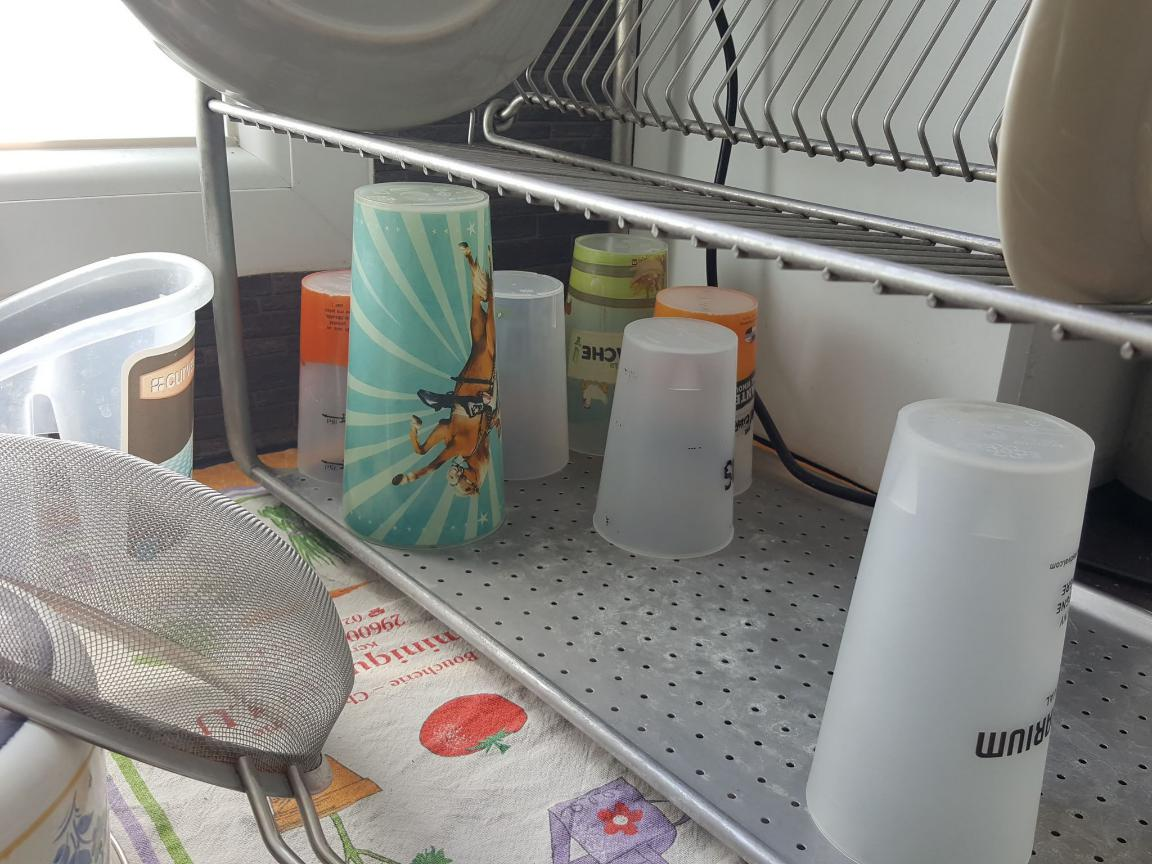ecocup: (804, 398, 1099, 864), (341, 180, 506, 549), (592, 316, 741, 557), (559, 235, 670, 470), (656, 284, 754, 498), (298, 269, 385, 483)
